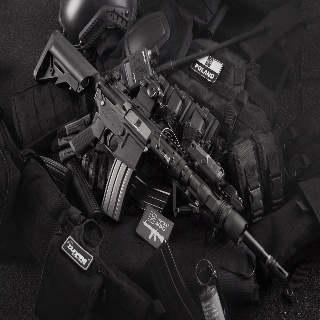rifle: (32, 28, 291, 286)
